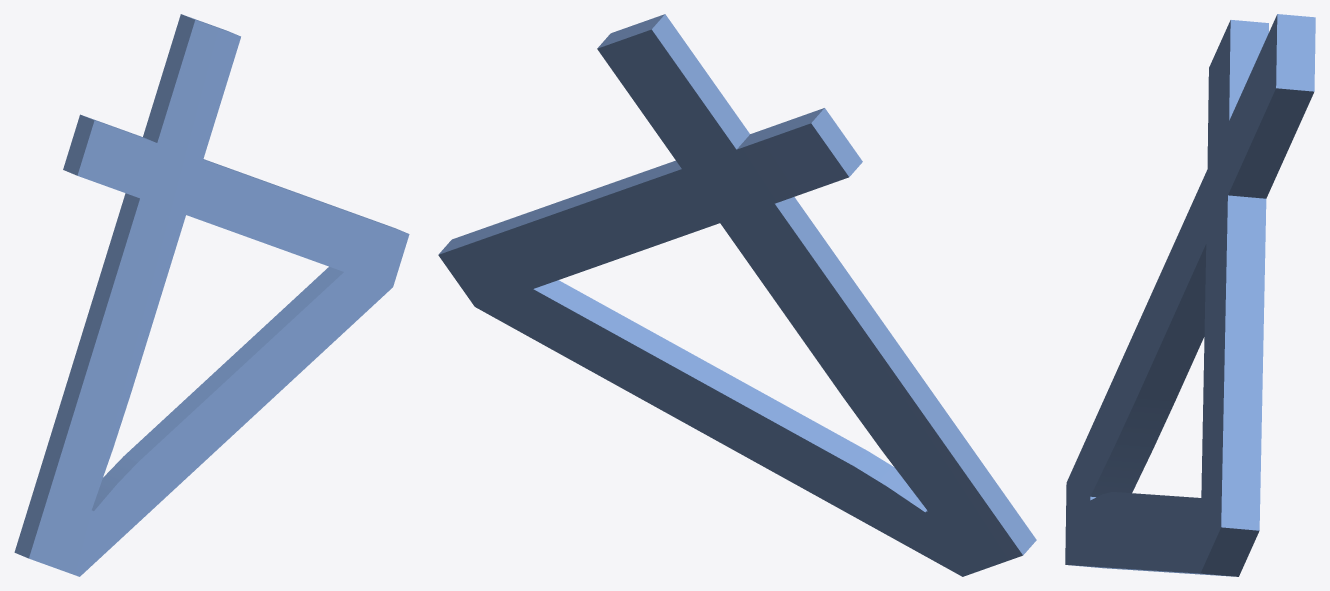
Rendered from Sub_2_Cell_2_3_New_Number_4.gltf.
The picture shows the model from 3 angles, left to right: view 1: azimuth 30°, elevation 25°; view 2: azimuth 150°, elevation 25°; view 3: azimuth 270°, elevation 25°; orthographic projection. The views are drawn at different scales.
Visible parts, largest first — view 1: Part 139; view 2: Part 139; view 3: Part 139.
Boxes of the visible parts, <box> form: Part 139: <box>14,14,409,576</box>; Part 139: <box>438,14,1036,576</box>; Part 139: <box>1065,14,1315,576</box>.
Bounding box in the file's own units: 0.00493 × 0.00502 × 0.00165.
